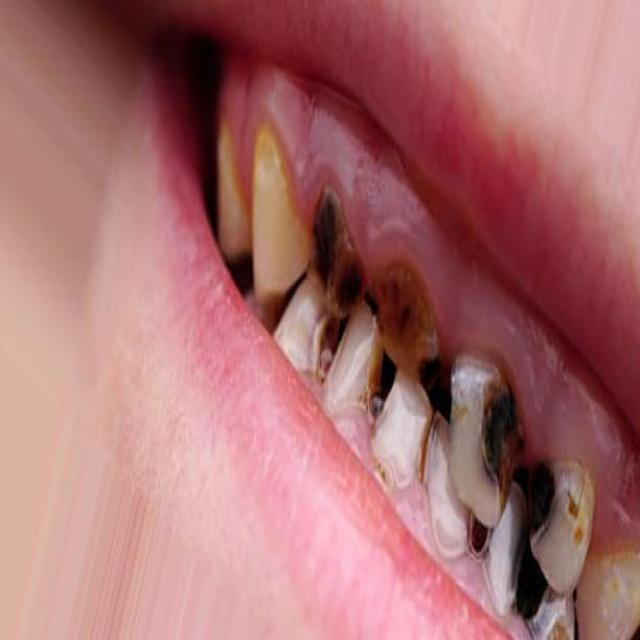caries: (448, 352, 517, 508), (368, 252, 445, 383), (521, 446, 592, 585), (307, 176, 366, 326), (298, 306, 352, 398), (457, 492, 500, 582)
